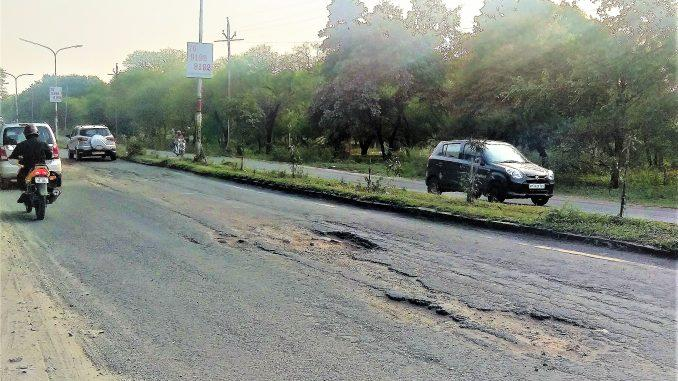Pothole: (243, 197, 625, 375)
